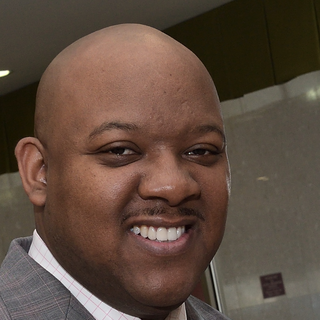eye: (90, 139, 143, 162), (179, 141, 222, 161)
